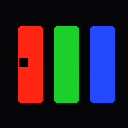1 square: (19, 58, 27, 66)
